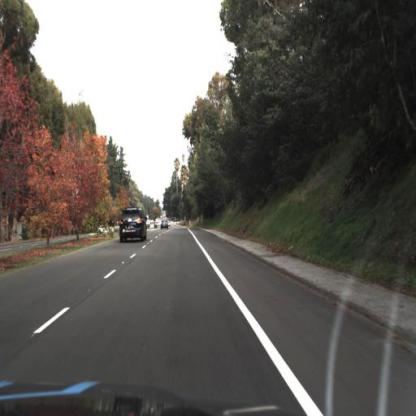car: (116, 208, 146, 248), (96, 224, 116, 239), (159, 216, 170, 233)
